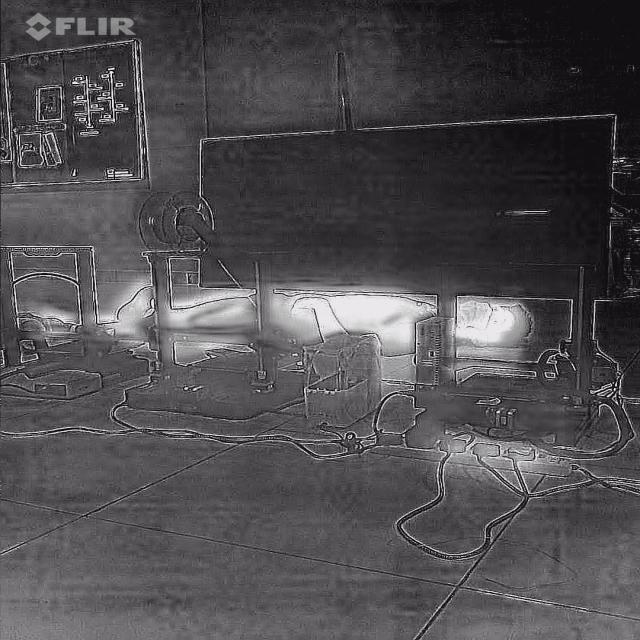Victim: (0, 284, 550, 362)
